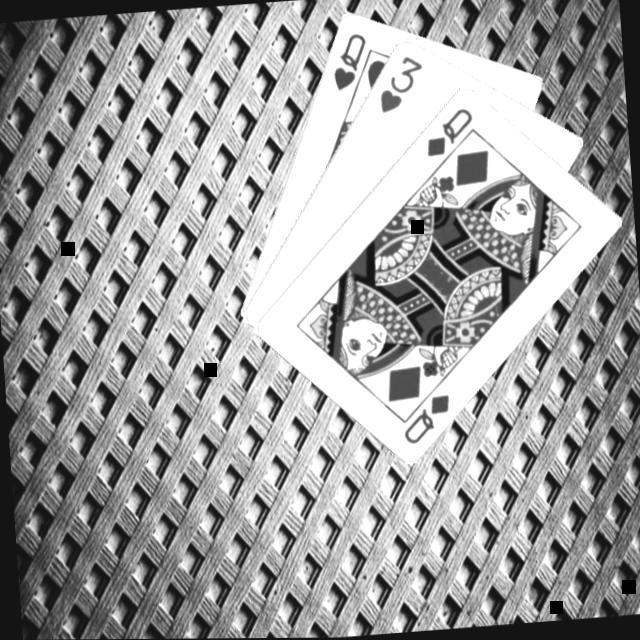3H: (370, 49, 427, 114)
QD: (394, 388, 452, 446), (417, 101, 476, 158)
QH: (324, 27, 370, 92)
